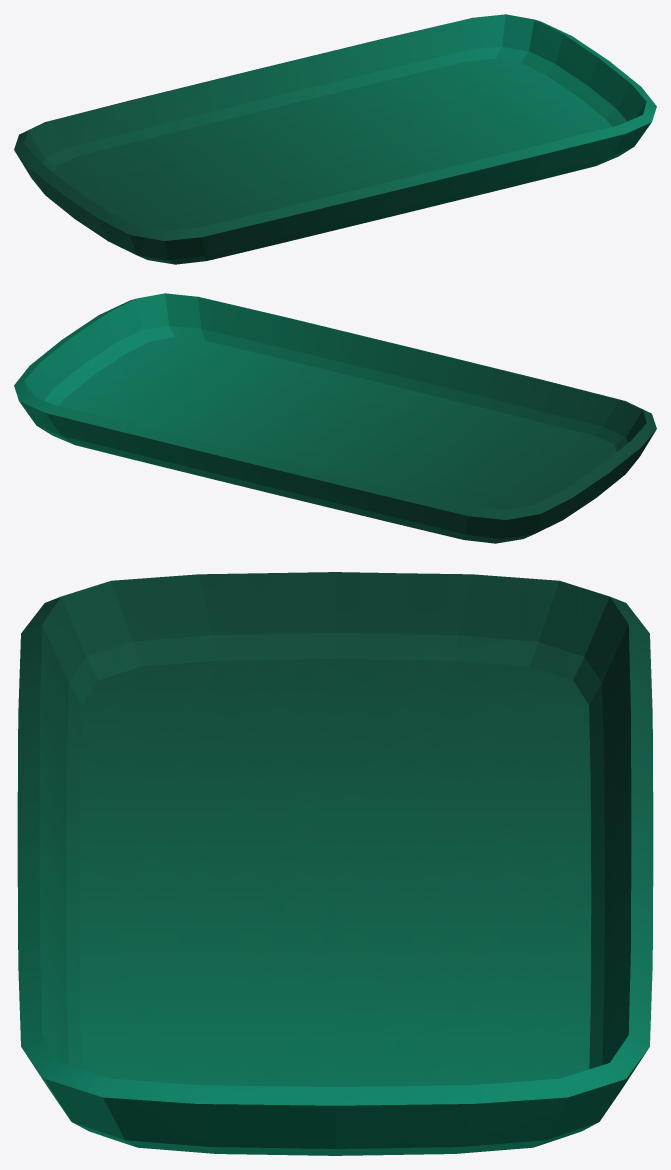
File: PlantPot_TrayA.fbx
The picture shows the model from 3 angles, top to bottom: view 1: azimuth 30°, elevation 25°; view 2: azimuth 150°, elevation 25°; view 3: azimuth 270°, elevation 25°; orthographic projection. The views are drawn at different scales.
Parts seen in each view (by area): view 1: PlantPot_TrayA; view 2: PlantPot_TrayA; view 3: PlantPot_TrayA.
Boxes of the visible parts, x1,y1,x2,y2 form: PlantPot_TrayA: [14, 14, 656, 264]; PlantPot_TrayA: [14, 293, 656, 543]; PlantPot_TrayA: [17, 572, 653, 1155].
Bounding box in the file's own units: 65.63 × 4.97 × 33.04.
